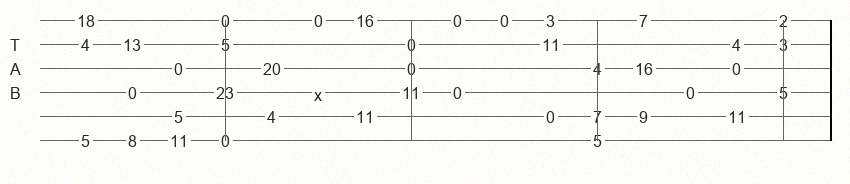0: (128, 84, 141, 100), (174, 60, 187, 76), (221, 12, 234, 28), (221, 132, 234, 148), (314, 12, 327, 28), (407, 60, 420, 76), (407, 36, 420, 52), (453, 12, 466, 28), (453, 84, 466, 100), (500, 12, 513, 28), (546, 108, 559, 124), (686, 84, 699, 100), (732, 60, 745, 76)
11: (170, 132, 192, 148), (356, 108, 378, 124), (402, 84, 424, 100), (542, 36, 564, 52), (728, 108, 750, 124)
13: (123, 36, 145, 52)
16: (356, 12, 378, 28), (635, 60, 657, 76)
18: (77, 12, 99, 28)
2: (779, 12, 792, 28)
20: (263, 60, 285, 76)
23: (216, 84, 238, 100)
3: (546, 12, 559, 28), (779, 36, 792, 52)
4: (81, 36, 94, 52), (267, 108, 280, 124), (593, 60, 606, 76), (732, 36, 745, 52)
5: (81, 132, 94, 148), (174, 108, 187, 124), (221, 36, 234, 52), (593, 132, 606, 148), (779, 84, 792, 100)
7: (593, 108, 606, 124), (639, 12, 652, 28)
8: (128, 132, 141, 148)
9: (639, 108, 652, 124)
x: (314, 86, 326, 99)
